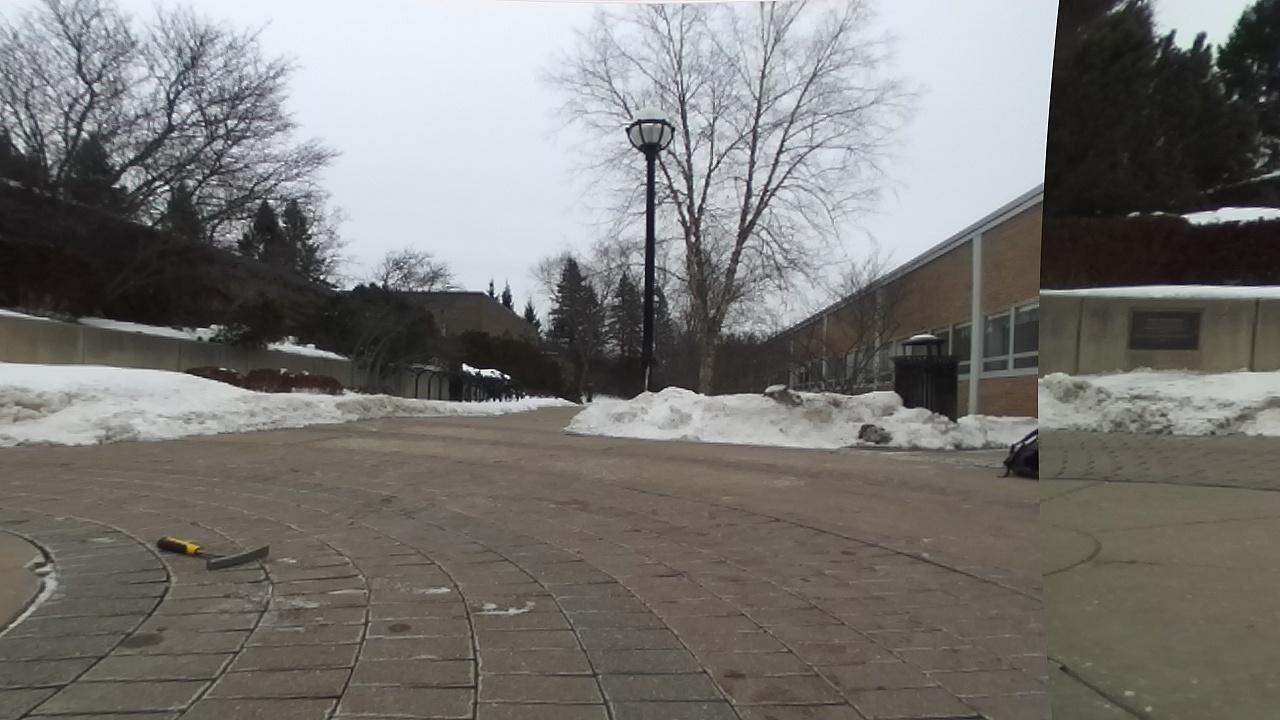pick: (157, 537, 268, 569)
